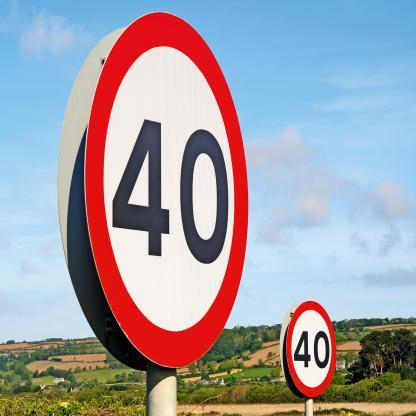Speed Limit 40: (100, 11, 248, 354), (291, 301, 337, 395)
